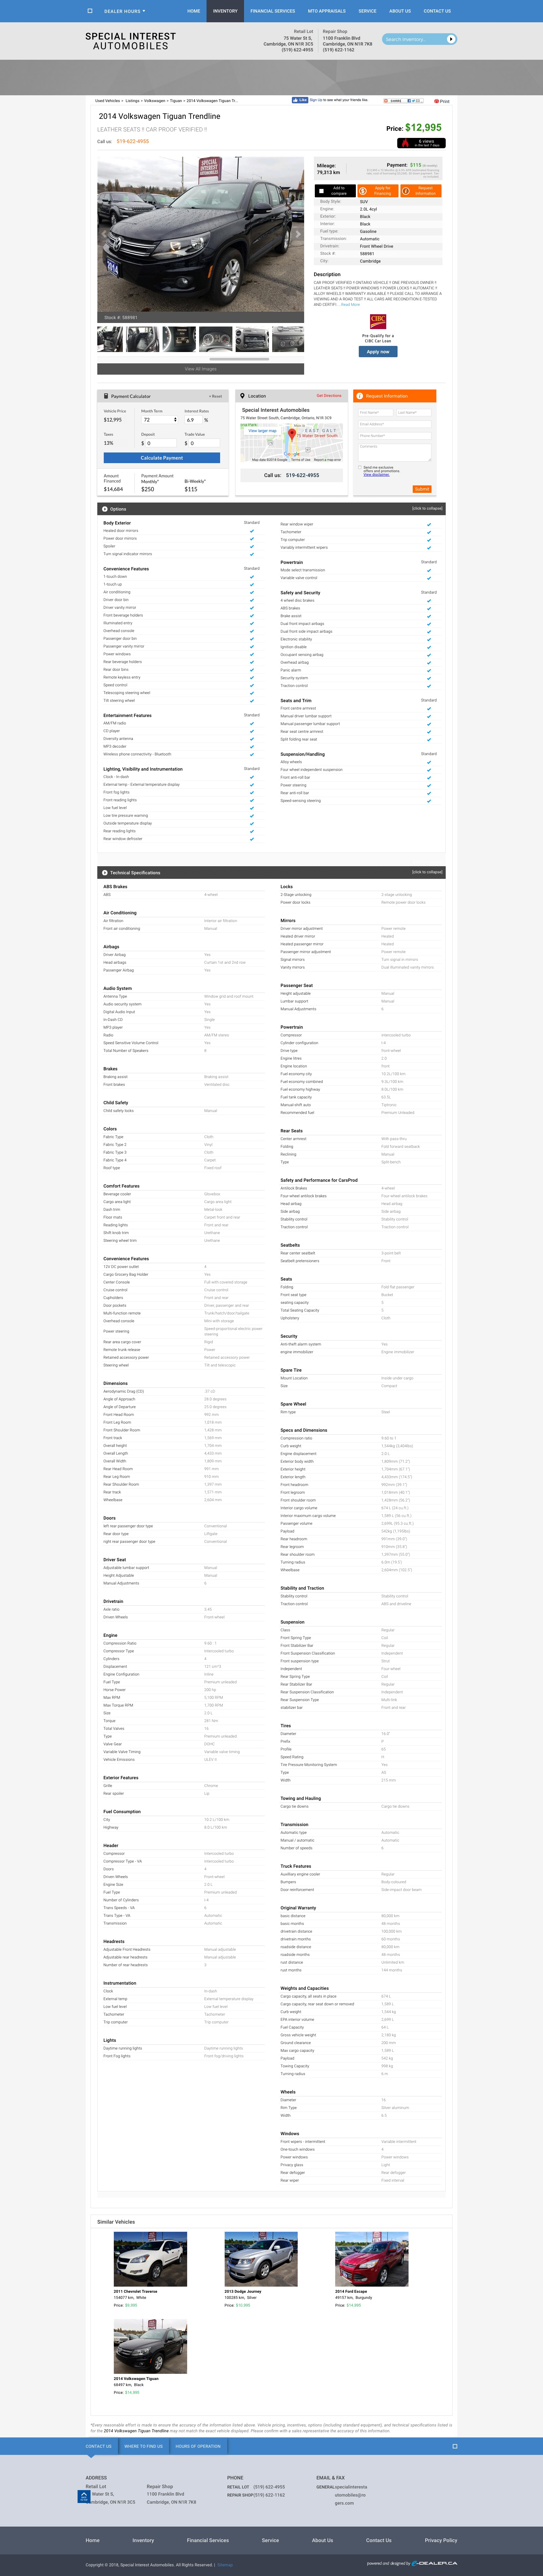car: (291, 228, 304, 241)
